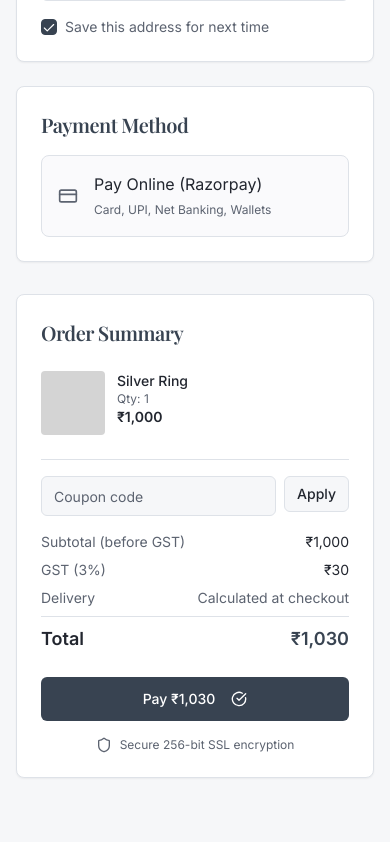
it: Payment (checkout) page › blocks payment and shows validation errors when the address is empty
The width and height of the screenshot is (390, 842).
(page scrolled)
Step 1. Click the button "Pay ₹1,030" → (195, 699), box x1=41 y1=677 x2=349 y2=721
(page scrolled)
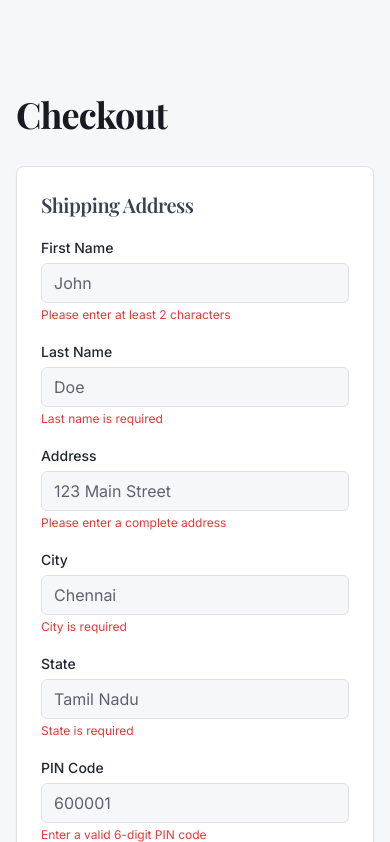
Expected: the text "Please enter at least 2 characters" is shown, x1=41 y1=307 x2=230 y2=322
